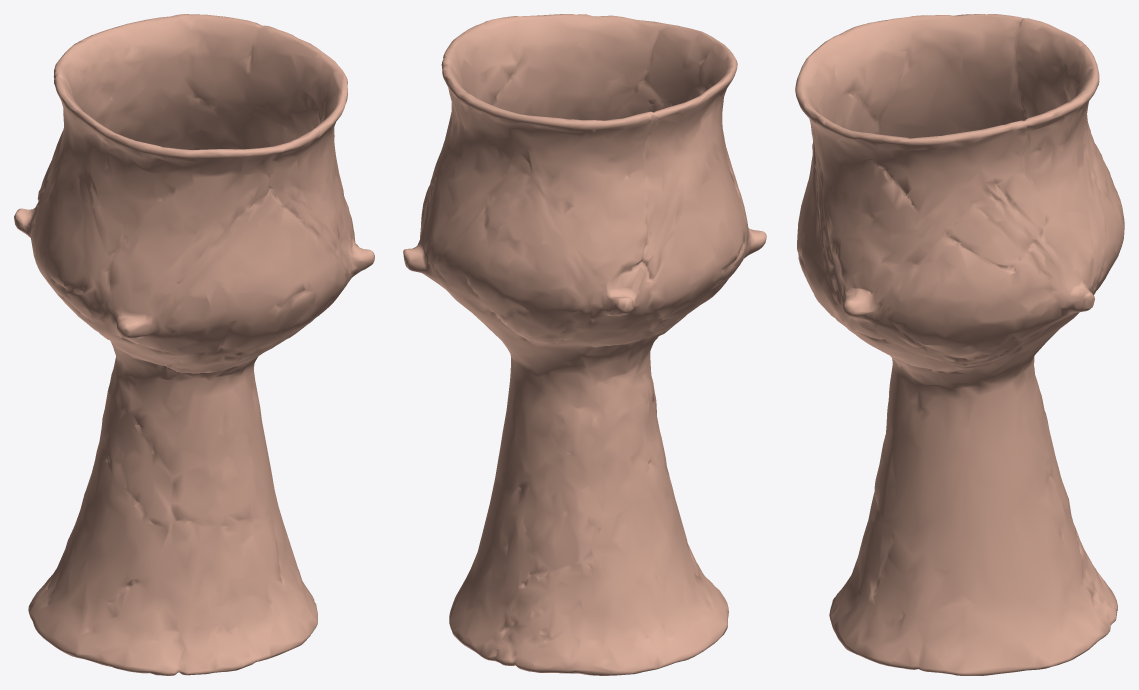
File: wc-neolithic-pottery.glb
3 renders of one model, left to right at view 1: azimuth 30°, elevation 25°; view 2: azimuth 150°, elevation 25°; view 3: azimuth 270°, elevation 25°, orthographic.
Parts seen in each view (by area): view 1: wc-neolithic-pottery; view 2: wc-neolithic-pottery; view 3: wc-neolithic-pottery.
Part boxes in pixels (x1=…): wc-neolithic-pottery: x1=14, y1=14, x2=374, y2=675; wc-neolithic-pottery: x1=403, y1=14, x2=766, y2=675; wc-neolithic-pottery: x1=795, y1=14, x2=1124, y2=675.
Size of the model in its own units: 0.1076 by 0.2 by 0.107.
